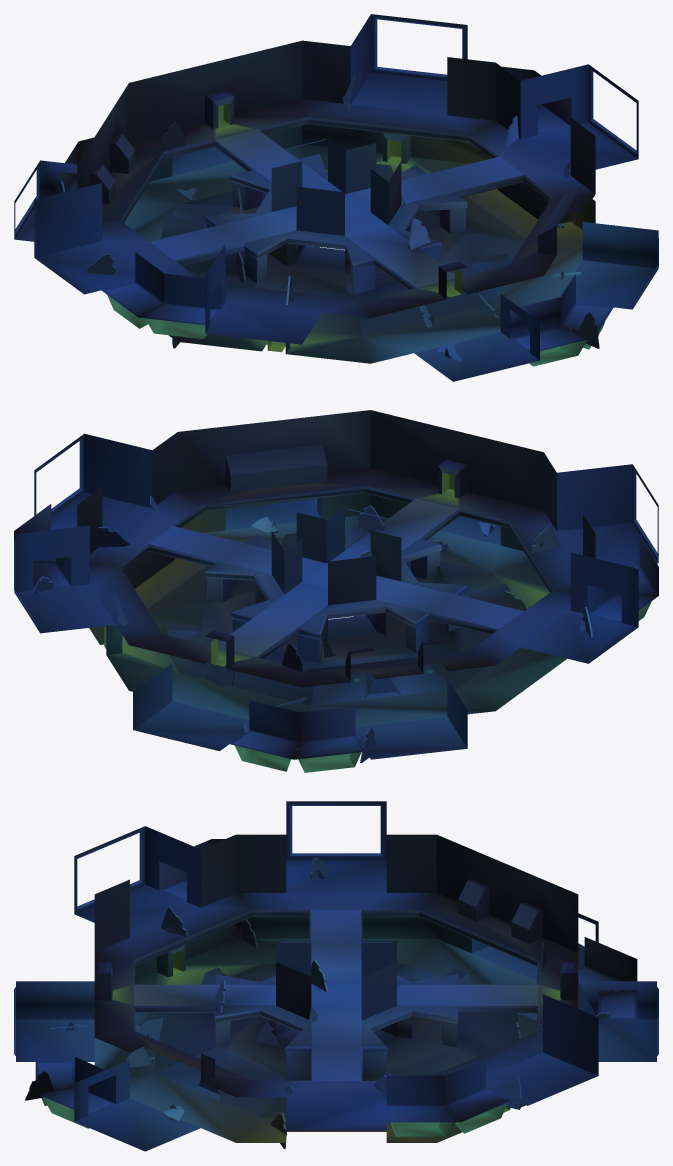
File: DRL.glb
3 views of the same model, one above another, from view 1: azimuth 30°, elevation 25°; view 2: azimuth 150°, elevation 25°; view 3: azimuth 270°, elevation 25° (orthographic).
Parts seen in each view (by area): view 1: DRL; view 2: DRL; view 3: DRL.
Boxes of the visible parts, x1=… form: DRL: x1=14, y1=14, x2=658, y2=381; DRL: x1=14, y1=410, x2=658, y2=772; DRL: x1=14, y1=801, x2=658, y2=1151.
Bounding box in the file's own units: 97.6 × 20.43 × 97.6.
